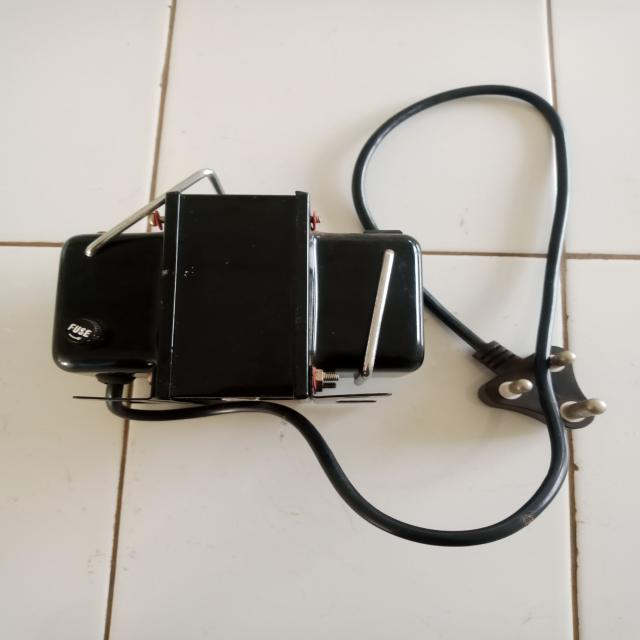Stepdown Transformer: (22, 176, 455, 421)
